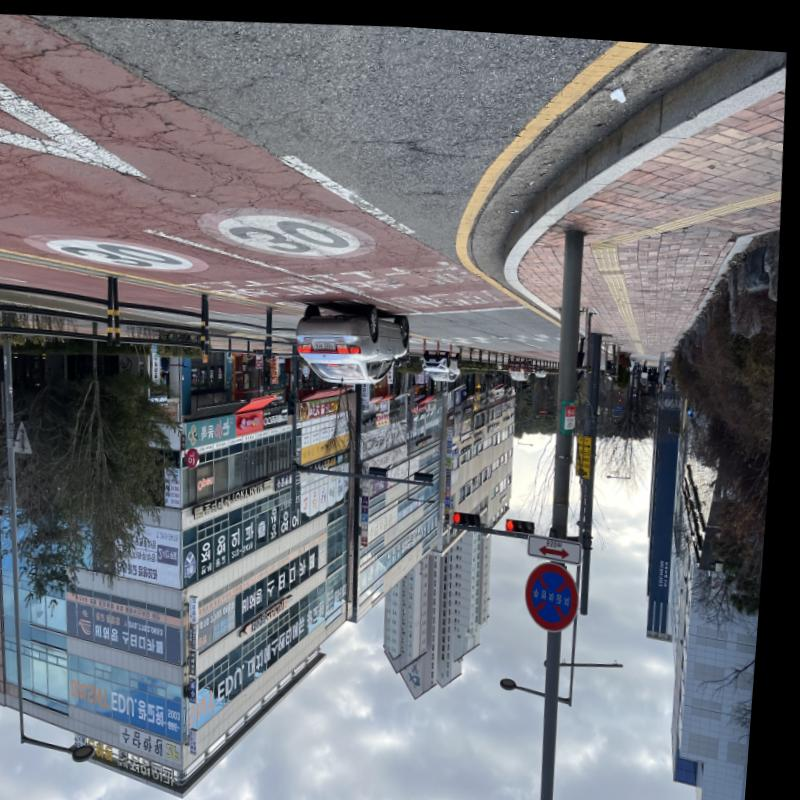red: (460, 506, 470, 516), (513, 512, 522, 522)
